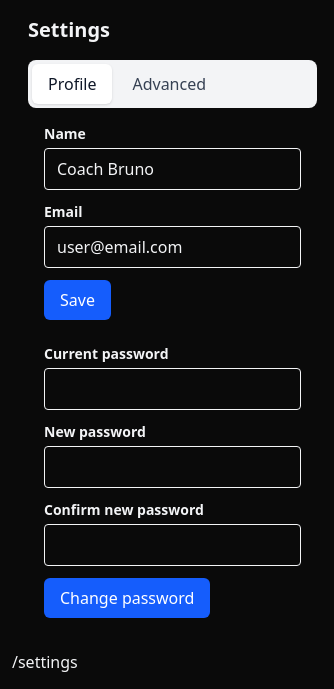
Test: switching to Advanced shows its panel and hides Profile's
Expected: the heading "Settings" is shown, x1=28 y1=16 x2=110 y2=43
Click the tab "Advanced". click: [169, 84]
box: x1=116 y1=64 x2=222 y2=104
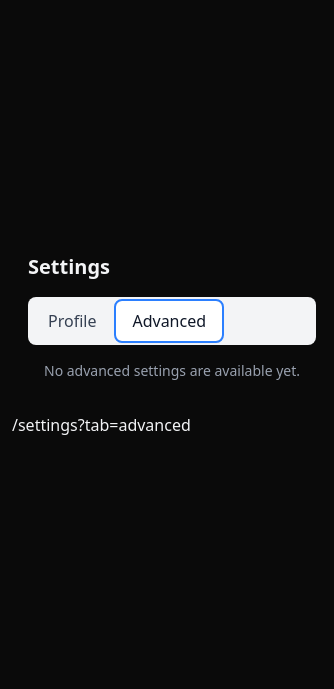
Expected: the text "No advanced settings are available yet." is shown, x1=44 y1=361 x2=300 y2=381
Expected: the label labelled "Name" is gone
